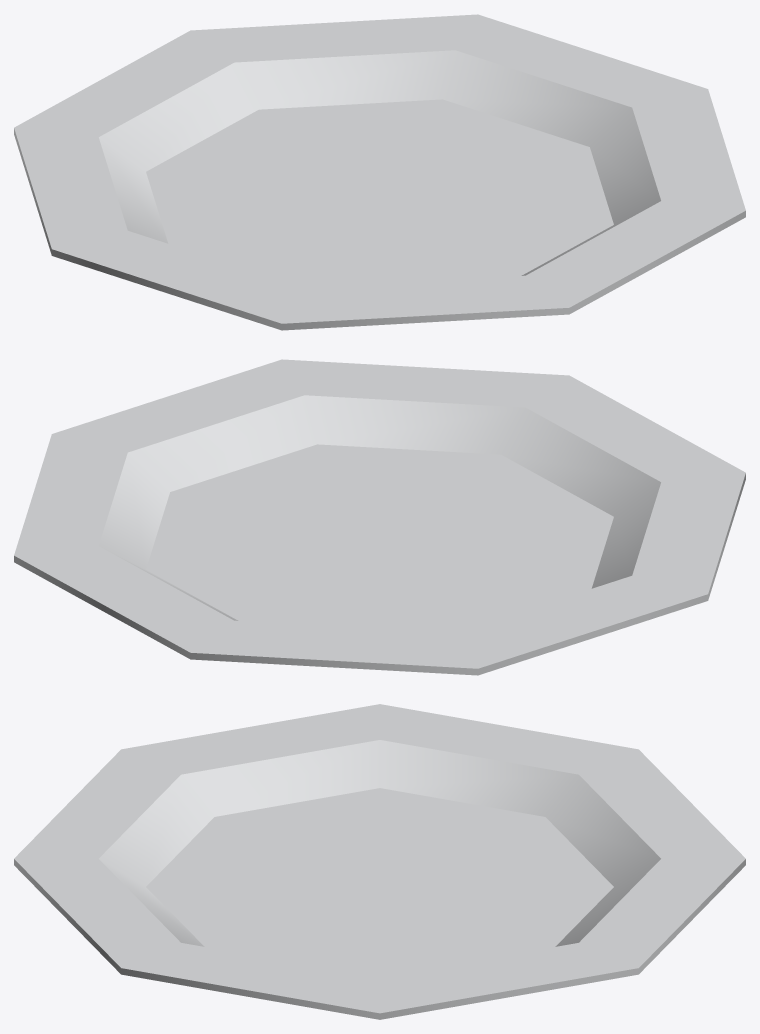
File: plate_021.glb
3 views of the same model, one above another, from view 1: azimuth 30°, elevation 25°; view 2: azimuth 150°, elevation 25°; view 3: azimuth 270°, elevation 25° (orthographic). The views are drawn at different scales.
Parts seen in each view (by area): view 1: plate.021; view 2: plate.021; view 3: plate.021.
Part boxes in pixels (box(x1,y1,x2,y2)): plate.021: box(14, 14, 745, 330); plate.021: box(14, 359, 745, 675); plate.021: box(14, 704, 745, 1019).
Bounding box in the file's own units: 4.77 × 0.4806 × 4.77.
Materials: 1 (1 with a texture image).
